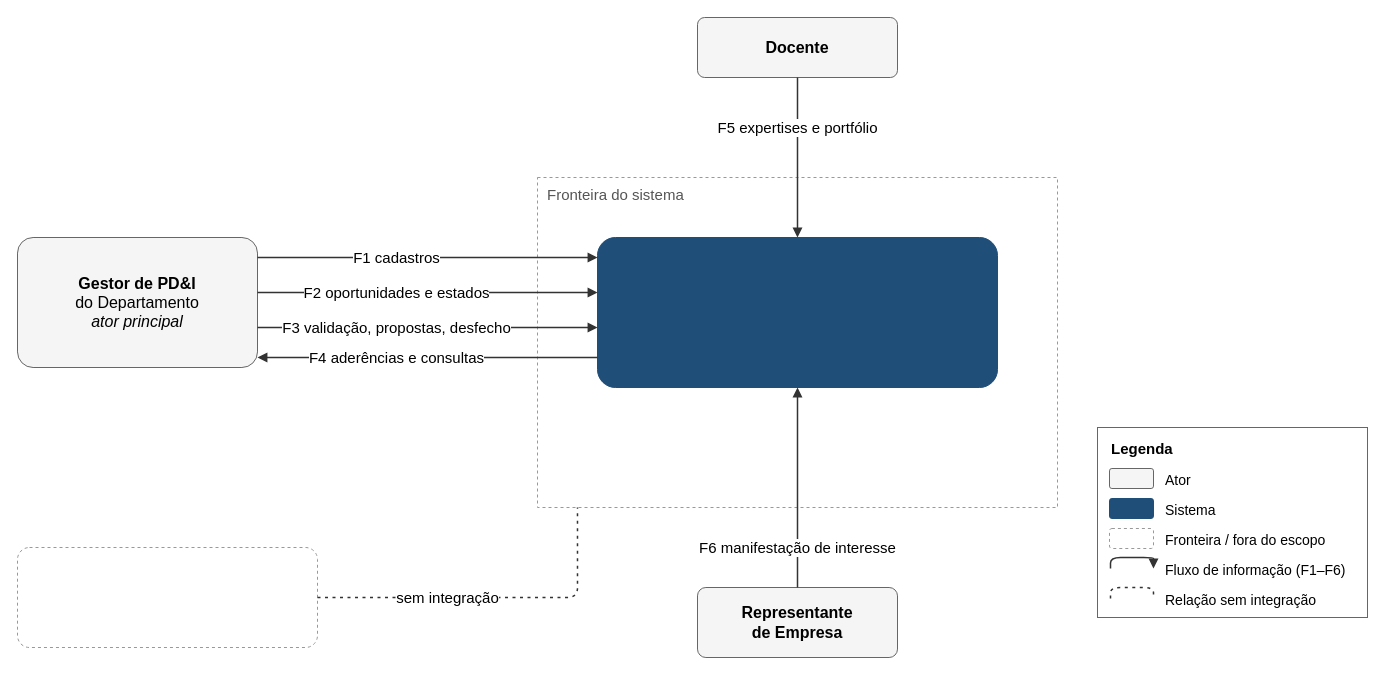
Some shapes in this 1385 by 675 pixel diagram are drawn without their labels. Here are the shapes that lost their labels. From the top down, the centre of each, then its label:
At point (797, 312): "ProspectaUni Sistema de Captação e Prospecção de Projetos Universitários".
At point (167, 597): "Sistemas acadêmicos externos (ex.: Lattes) fora do escopo — evolução futura".
